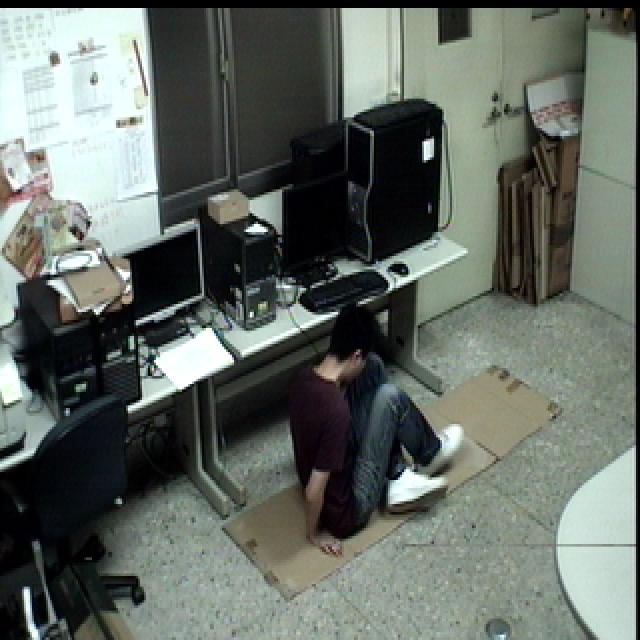sit: (284, 298, 471, 561)
